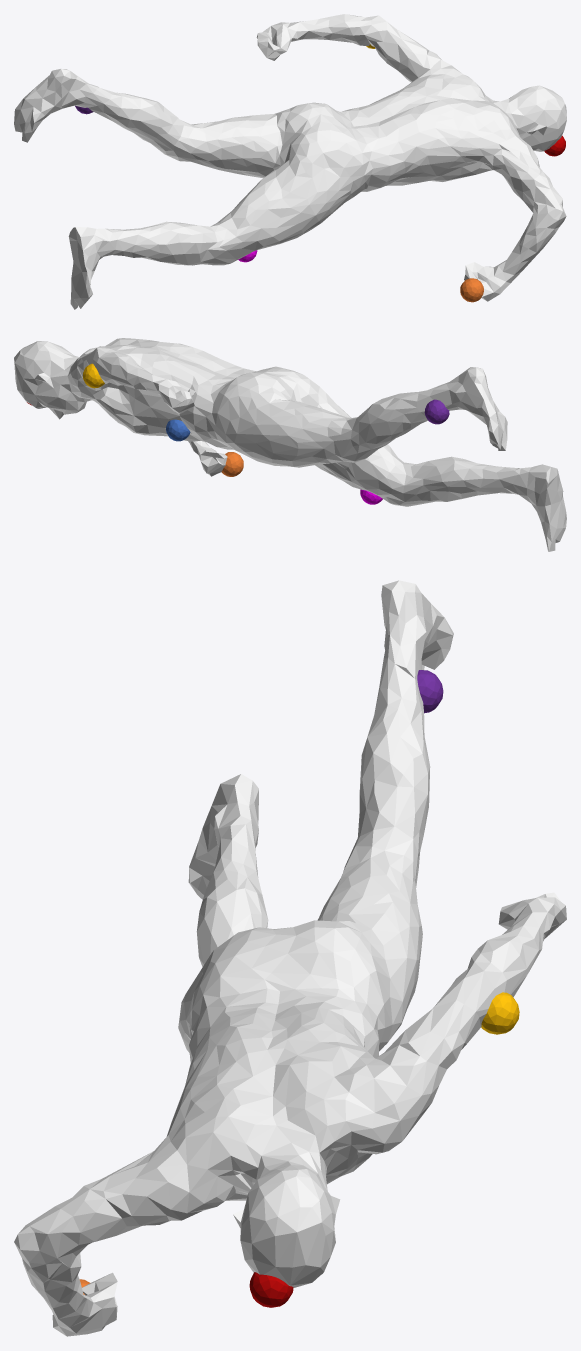
Rendered from source_human.obj.
3 renders of one model, top to bottom at view 1: azimuth 30°, elevation 25°; view 2: azimuth 150°, elevation 25°; view 3: azimuth 270°, elevation 25°, orthographic. The views are drawn at different scales.
Size of the model in its own units: 1.82 by 0.8534 by 0.9415.
Materials: 1 (1 with a texture image).
